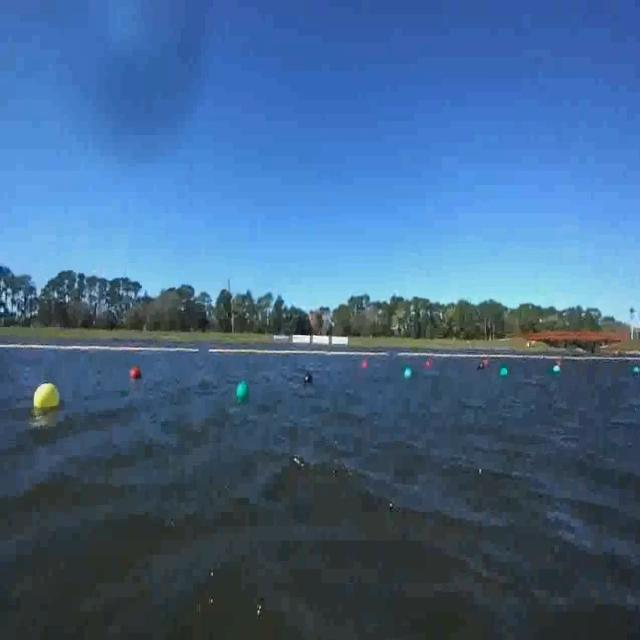green-buoy: (235, 380, 248, 400), (405, 365, 414, 379), (500, 365, 508, 377), (632, 365, 640, 375)
red-buoy: (132, 367, 142, 379)
yellow-buoy: (32, 380, 58, 407)
